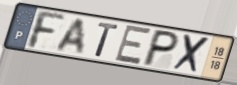A: (54, 17, 86, 56)
E: (112, 24, 154, 67)
F: (27, 9, 67, 51)
P: (139, 28, 181, 68)
T: (93, 21, 120, 59)
X: (171, 33, 213, 76)
